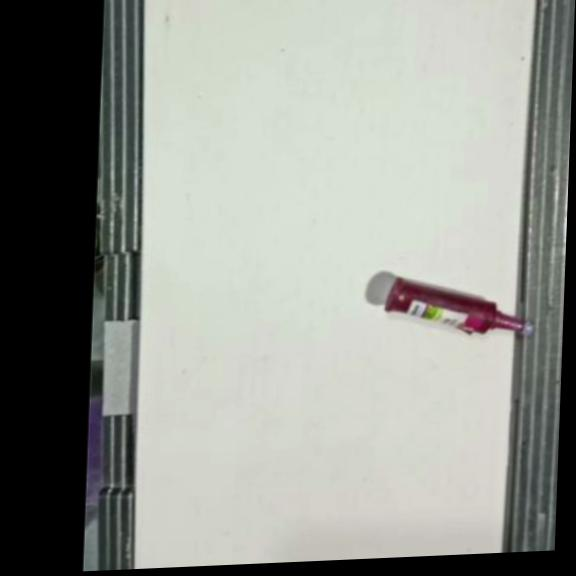Plastik: (382, 270, 539, 340)
